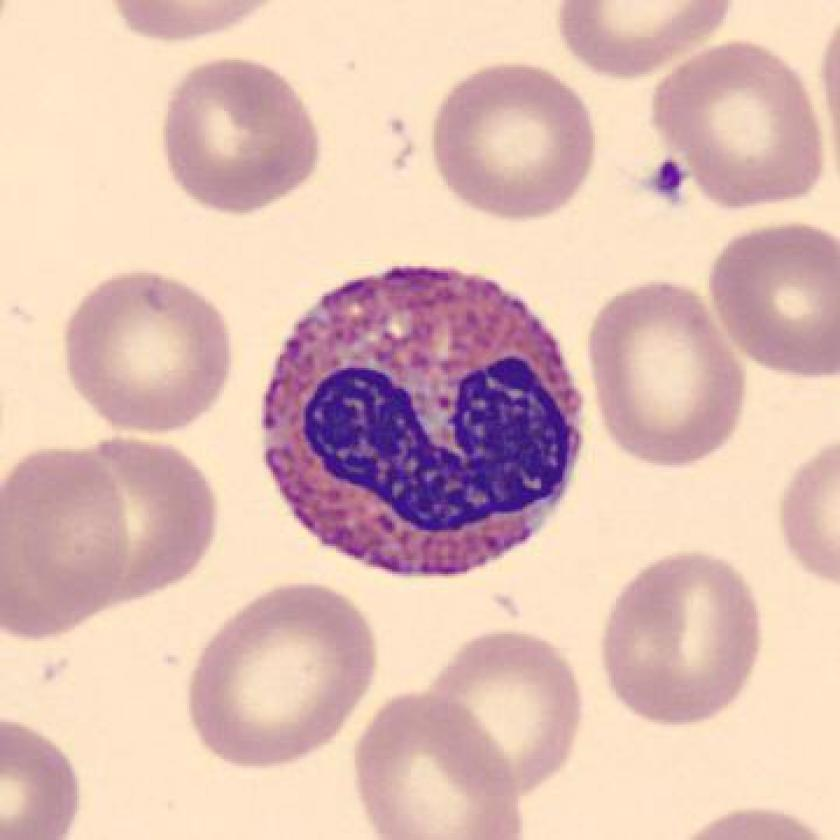eosinophil: (251, 246, 596, 589)
